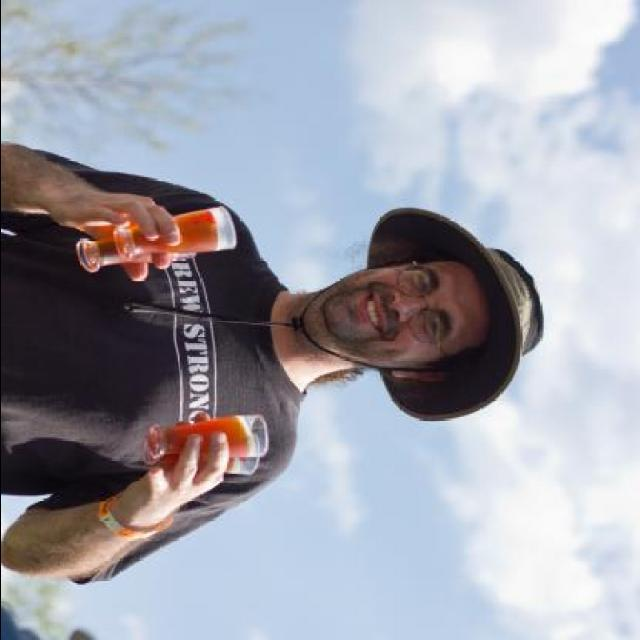Juice: (130, 208, 224, 252), (160, 420, 251, 458)
